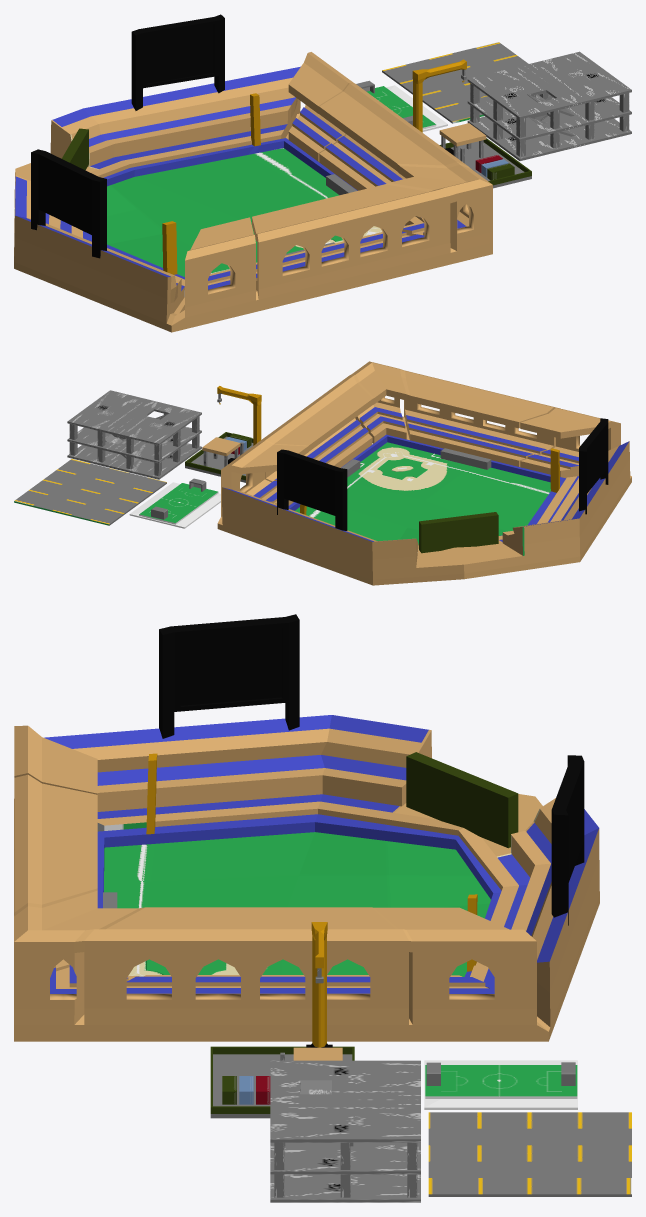
The model's file is buildingsPart2.fbx.
The picture shows the model from 3 angles, top to bottom: view 1: azimuth 30°, elevation 25°; view 2: azimuth 150°, elevation 25°; view 3: azimuth 270°, elevation 25°; orthographic projection. The views are drawn at different scales.
Parts seen in each view (by area): view 1: Cube.011, Cube.003, Cube.002, Cube, Cube.004, Cube.010, Cube.008; view 2: Cube.011, Cube.003, Cube.002, Cube, Cube.004, Cube.010, Cube.008; view 3: Cube.011, Cube.003, Cube.002, Cube, Cube.004, Cube.010.
Boxes of the visible parts, x1,y1,x2,y2 form: Cube.011: (14,14,492,332); Cube.003: (467,51,631,160); Cube.002: (382,42,550,123); Cube: (356,80,447,131); Cube.004: (439,138,531,188); Cube.010: (412,59,466,155); Cube.008: (439,123,486,158); Cube.011: (217,361,631,585); Cube.003: (67,390,201,479); Cube.002: (14,459,166,525); Cube: (129,478,220,528); Cube.004: (185,432,253,482); Cube.010: (217,386,261,464); Cube.008: (202,437,240,466); Cube.011: (14,614,599,1041); Cube.003: (270,1060,420,1202); Cube.002: (428,1112,631,1196); Cube: (424,1060,577,1109); Cube.004: (210,1046,354,1118); Cube.010: (306,922,332,1047).
Size of the model in its own units: 13761 by 2746 by 8569.
Materials: 1 (1 with a texture image).
